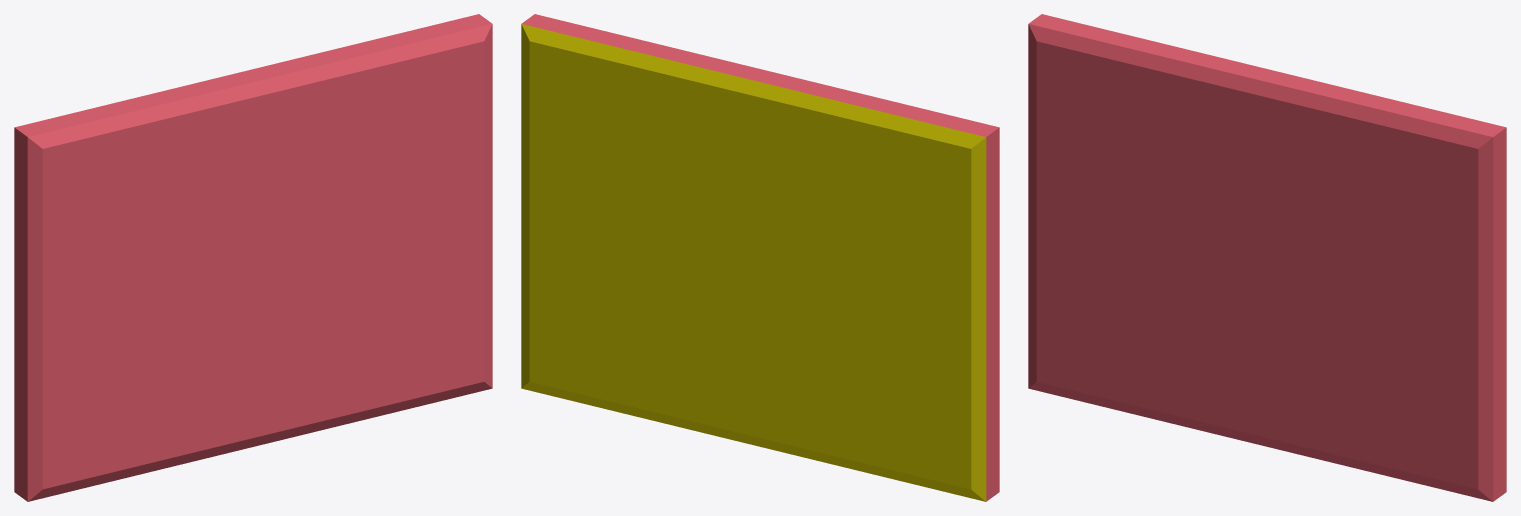
Rendered from wall-scifi.fbx.
3 renders of one model, left to right at view 1: azimuth 30°, elevation 25°; view 2: azimuth 150°, elevation 25°; view 3: azimuth 330°, elevation 25°, orthographic.
Visible parts, largest first — view 1: wall-scifi; view 2: wall-scifi; view 3: wall-scifi.
Part boxes in pixels (x1,y1,x2,y2): wall-scifi: (14, 14, 492, 501); wall-scifi: (521, 14, 999, 501); wall-scifi: (1028, 14, 1506, 501).
Size of the model in its own units: 4 by 3 by 0.3.
